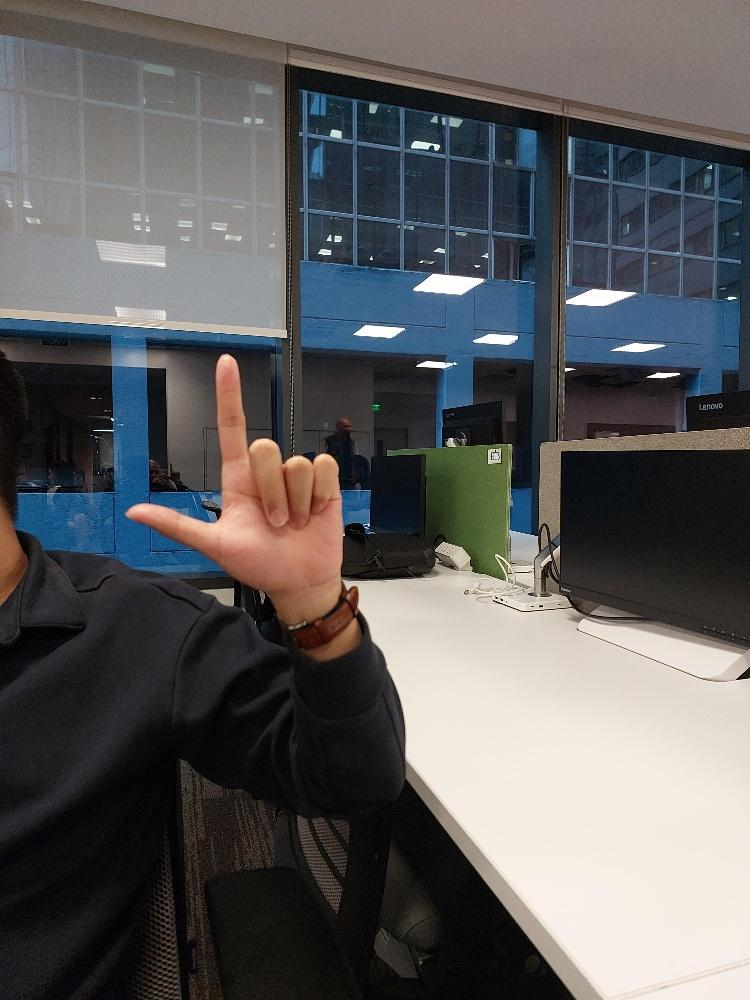l: (122, 353, 344, 589)
